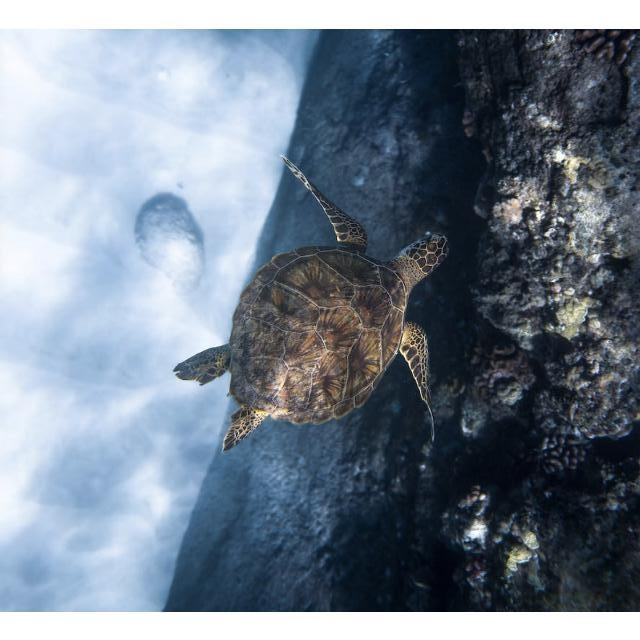turtle: (174, 154, 449, 455)
